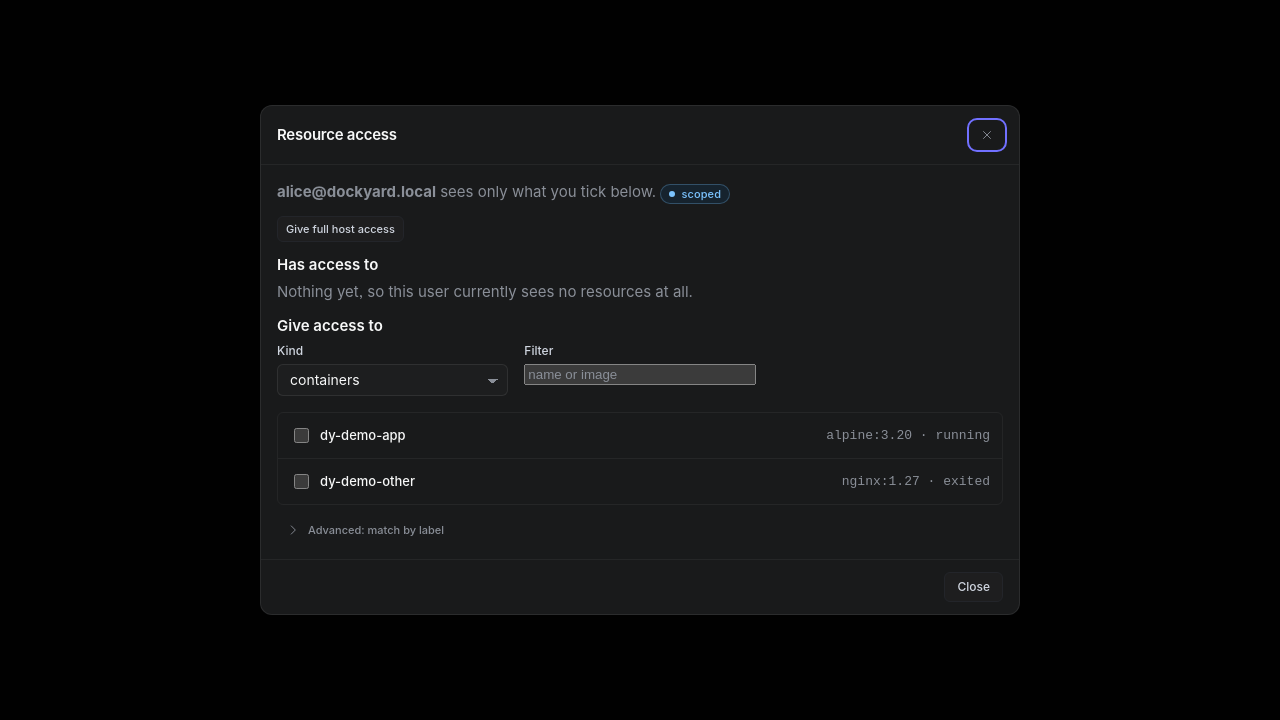
Test: AllocationDialog › narrows the list by name or image
expect the checkbox labelled "dy-demo-app alpine:3.20 · running" is shown: met, box [294, 428, 309, 443]
Type "nginx" into the field labelled "Filter". click: (640, 374)
box: [524, 364, 756, 385]
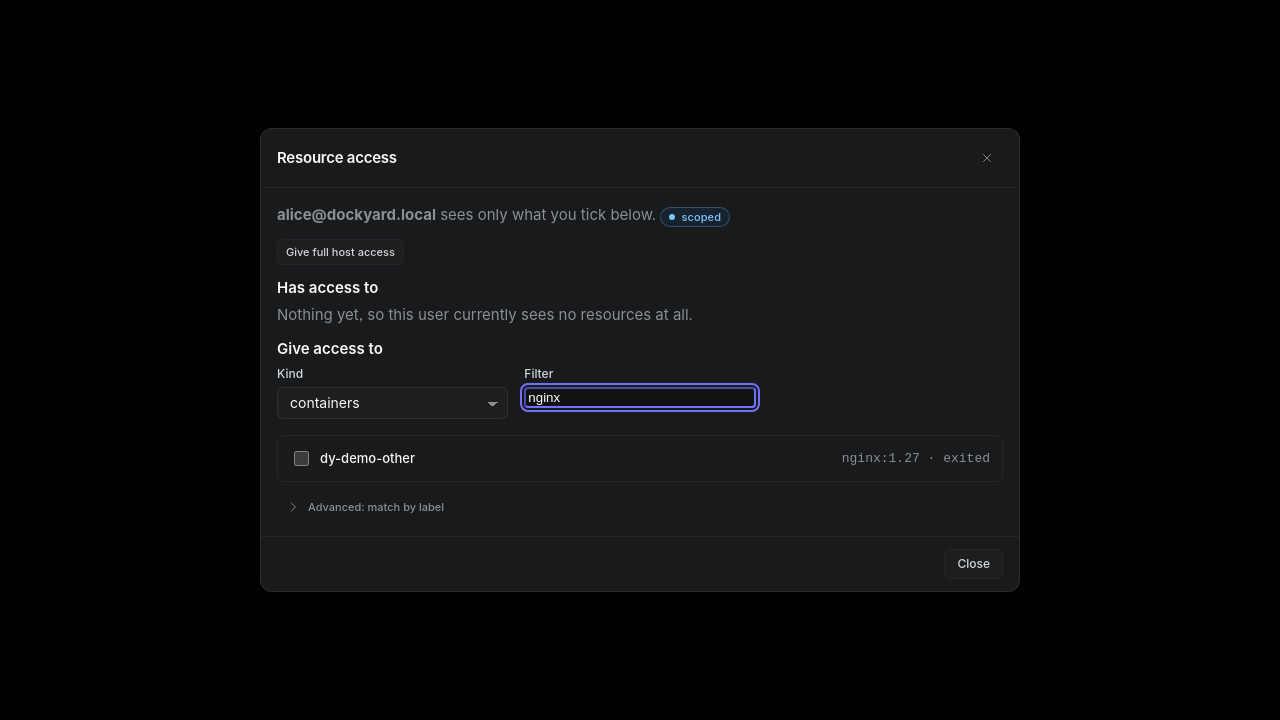
expect the checkbox labelled "dy-demo-other nginx:1.27 · exited" is shown: met, box [294, 451, 309, 466]
expect the text "dy-demo-app" is gone: met
